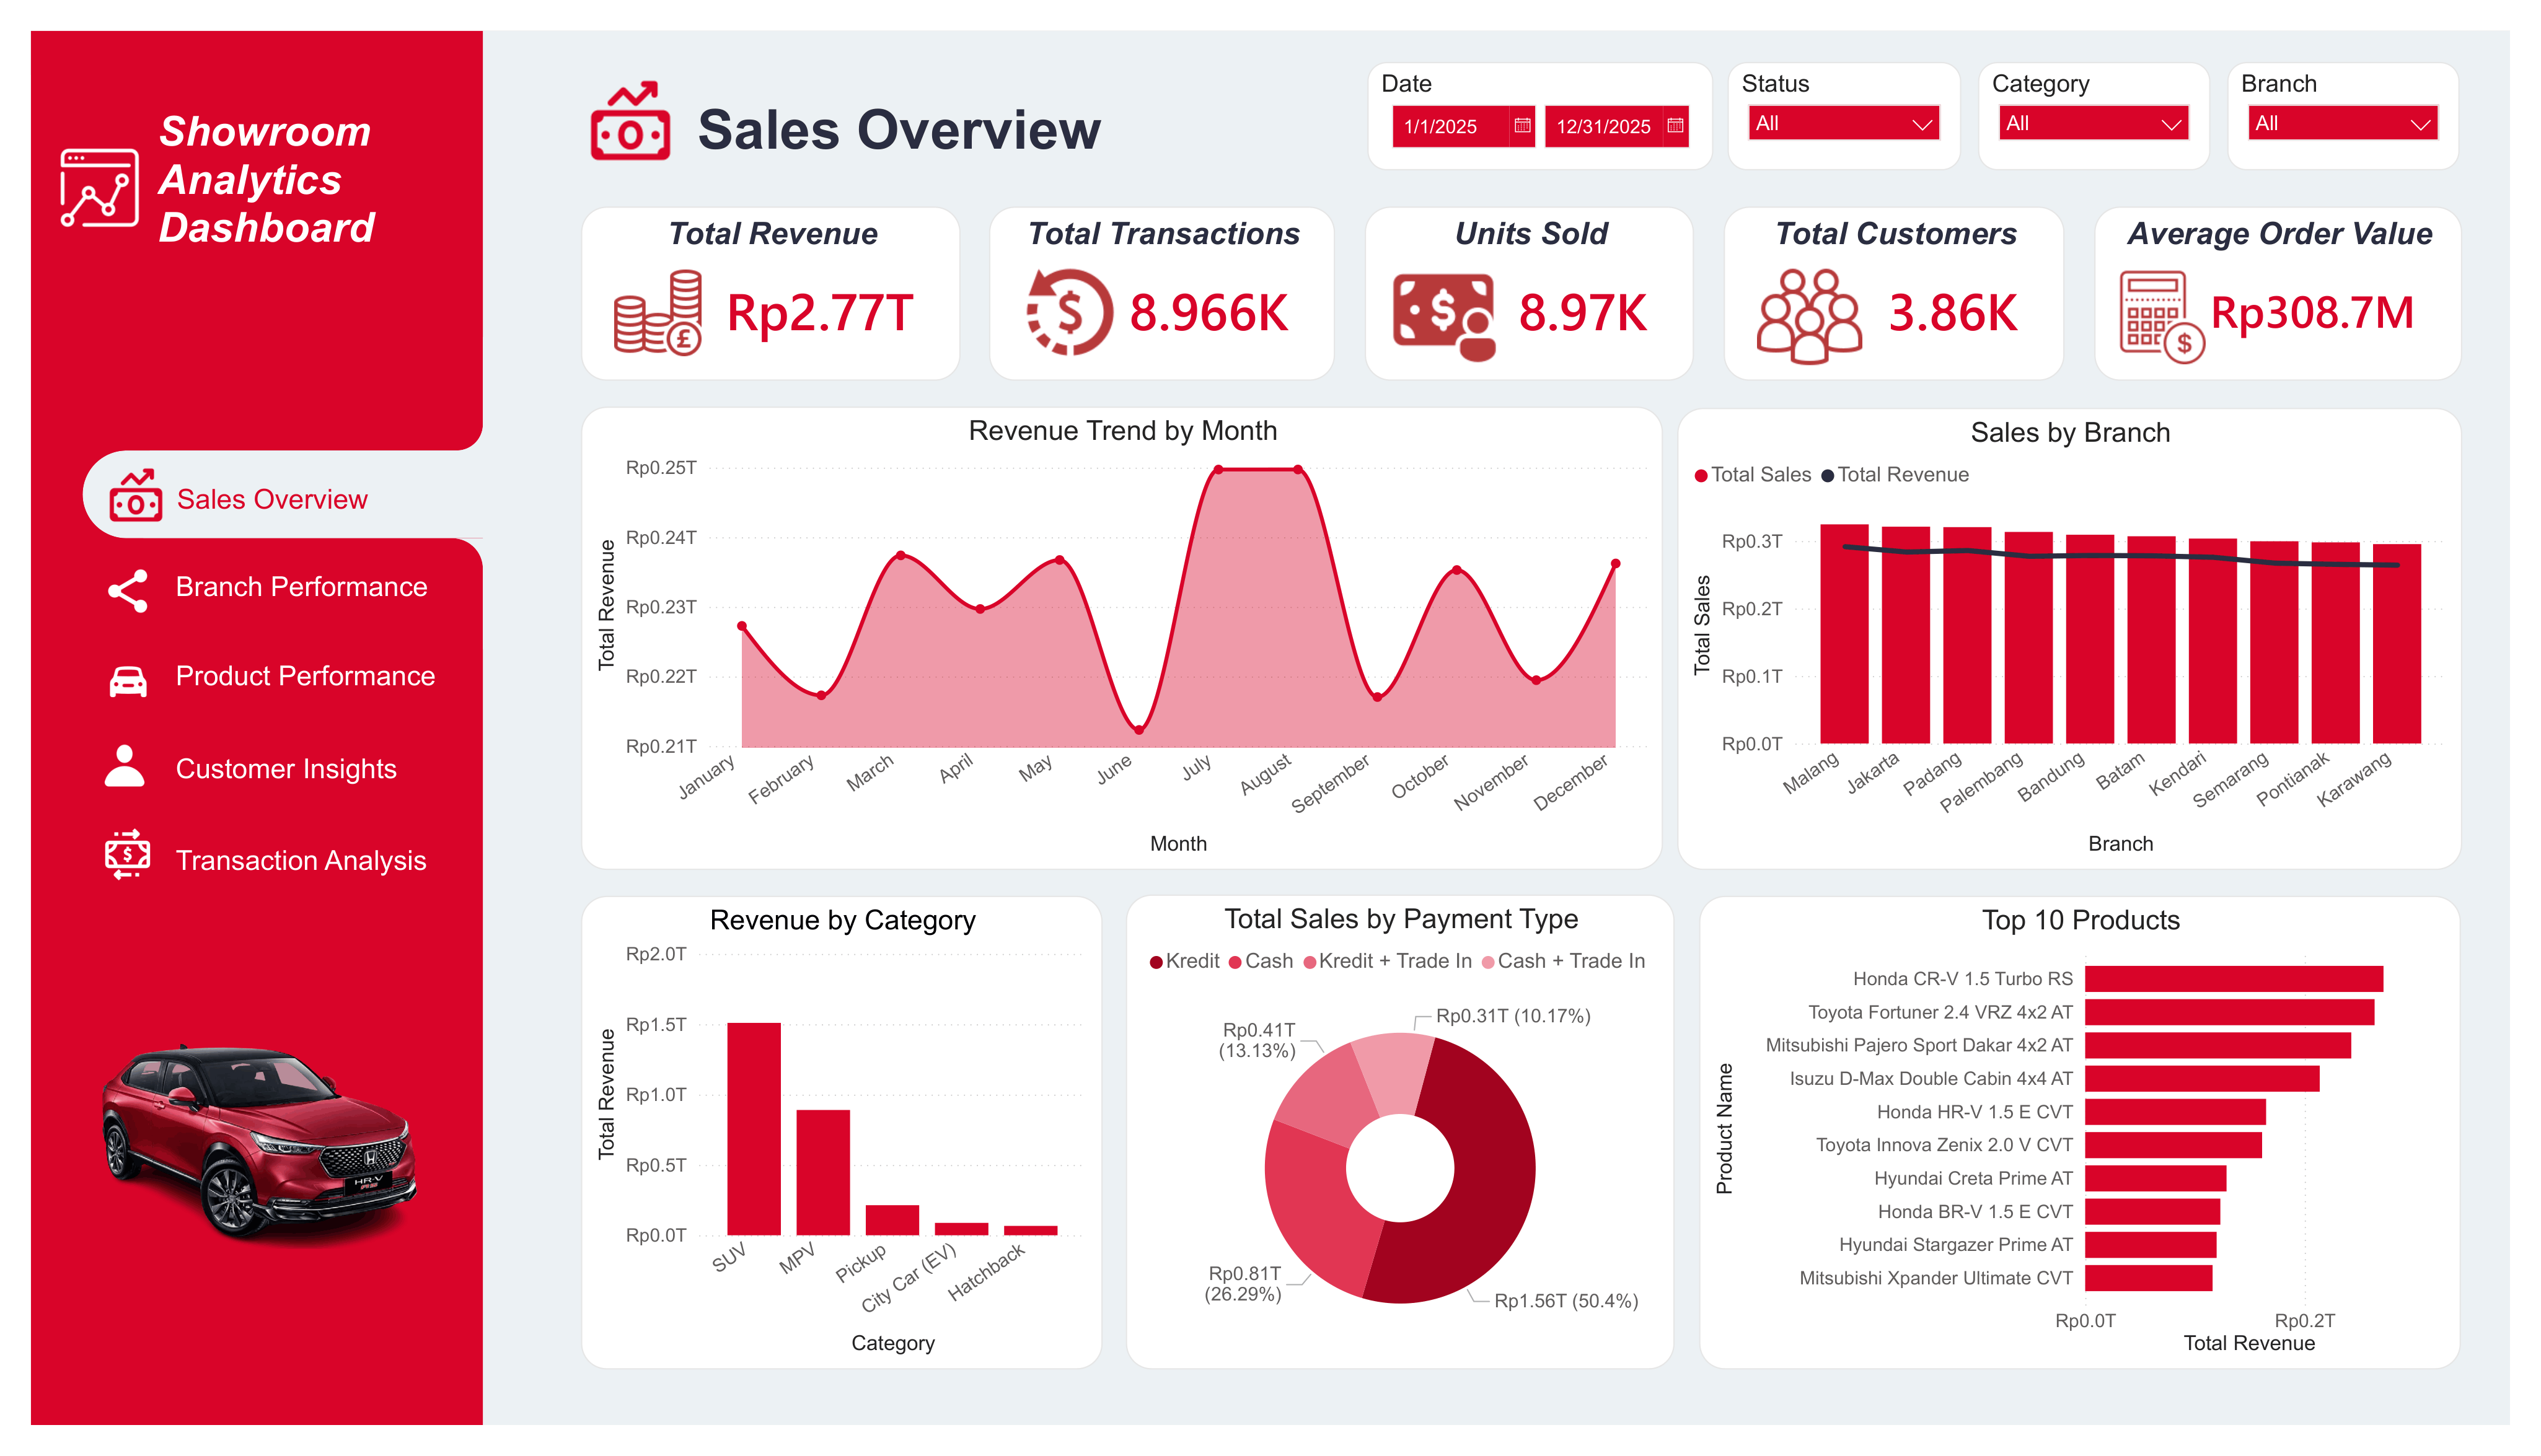

The page's visual inventory and layout, read from the dashboard file:
{"tool":"powerbi","page":{"name":"Sales Overview","canvas":[1920,1080],"ordinal":0},"visuals":[{"type":"shape","box":[0,0,350,1080],"z":0},{"type":"image","box":[0,621.5,352.3,458.5],"z":1000},{"type":"lineChart","title":"Revenue Trend by Month","fields":{"Category":["showroom_mobil_clean.sales_date.Variation.Date Hierarchy.Month"],"Y":["showroom_mobil_clean.total_revenue"]},"box":[425.7,291.4,838.6,358.6],"z":2000},{"type":"lineStackedColumnComboChart","title":"Sales by Branch","fields":{"Category":["showroom_mobil_clean.branch"],"Y":["Sum(showroom_mobil_clean.total_sales)"],"Y2":["showroom_mobil_clean.total_revenue"]},"box":[1274.7,292,608.4,357.8],"z":3000},{"type":"columnChart","title":"Revenue by Category","fields":{"Category":["showroom_mobil_clean.category"],"Y":["showroom_mobil_clean.total_revenue"]},"box":[425.7,670,404.3,367.1],"z":4000},{"type":"donutChart","title":"Total Sales by Payment Type","fields":{"Category":["showroom_mobil_clean.payment_type"],"Y":["Sum(showroom_mobil_clean.total_sales)"]},"box":[848,669.3,425.3,368],"z":5000},{"type":"clusteredBarChart","title":"Top 10 Products","fields":{"Category":["showroom_mobil_clean.product_name"],"Y":["showroom_mobil_clean.total_revenue"]},"box":[1292.2,669.5,589.7,367.8],"z":6000},{"type":"cardVisual","title":"Total Revenue","fields":{"Data":["showroom_mobil_clean.total_revenue"]},"box":[425.7,135.7,294.3,135.7],"z":7000},{"type":"image","box":[20,91.3,66.1,60.9],"z":8000},{"type":"image","box":[417.4,31.3,93.9,76.5],"z":9000},{"type":"textbox","box":[511,46.8,499.1,61.5],"z":10000},{"type":"cardVisual","title":"Total Transactions","fields":{"Data":["showroom_mobil_clean.Total Transactions"]},"box":[742.3,135.9,268.1,134.6],"z":11000},{"type":"cardVisual","title":"Units Sold","fields":{"Data":["showroom_mobil_clean.Units Sold"]},"box":[1032.8,135.9,255.6,134.6],"z":12000},{"type":"cardVisual","title":"Total Customers","fields":{"Data":["showroom_mobil_clean.Total Customers"]},"box":[1310.9,135.9,264.3,134.6],"z":13000},{"type":"cardVisual","title":"Average Order Value","fields":{"Data":["showroom_mobil_clean.AOV"]},"box":[1597.6,135.9,285.5,134.6],"z":14000},{"type":"slicer","title":"Date","fields":{"Values":["showroom_mobil_clean.sales_date"]},"box":[1034.7,24.5,268,83.8],"z":15000},{"type":"slicer","title":"Status","fields":{"Values":["showroom_mobil_clean.status"]},"box":[1314.4,24.5,180.4,83.8],"z":16000},{"type":"slicer","title":"Category","fields":{"Values":["showroom_mobil_clean.category"]},"box":[1507.7,24.5,180.4,83.8],"z":17000},{"type":"slicer","title":"Branch","fields":{"Values":["showroom_mobil_clean.branch"]},"box":[1700.9,24.5,180.4,83.8],"z":18000},{"type":"image","box":[438.5,184.6,93.8,67.7],"z":19000},{"type":"image","box":[749.3,177.3,112,81.3],"z":20000},{"type":"image","box":[1030.8,172.3,126.2,87.7],"z":21000},{"type":"image","box":[1314.6,180.8,124.7,81],"z":22000},{"type":"image","box":[1580,176.9,126.2,81.5],"z":23000},{"type":"shape","box":[39.7,324.8,350.4,68.6],"z":24000},{"type":"textbox","box":[108.3,346.3,196.7,42.1],"z":25000},{"type":"shape","box":[86.8,392.6,264.5,86],"z":26000},{"type":"image","box":[56.2,330.6,51.2,57.9],"z":27000},{"type":"shape","box":[92.2,237.1,260.8,89.6],"z":28000},{"type":"shape","box":[10.7,393.4,339.7,156.2],"z":29000},{"type":"shape","box":[0,189.7,350.3,135.7],"z":30000},{"type":"textbox","box":[93,54.8,244.3,133.9],"z":31000},{"type":"textbox","box":[107.3,413.8,216.5,43.1],"z":32000},{"type":"textbox","box":[107.3,555,197.2,35.8],"z":33000},{"type":"textbox","box":[107.3,483.5,216.5,42.2],"z":34000},{"type":"textbox","box":[107.3,625.7,216.5,35.8],"z":35000},{"type":"image","box":[55.3,410.9,39.5,46.1],"z":36000},{"type":"image","box":[55.3,480.7,40.8,46.1],"z":37000},{"type":"image","box":[52.7,547.9,39.5,42.1],"z":38000},{"type":"image","box":[55.3,615.1,39.5,46.1],"z":39000}]}

Visuals, with their boxes on the page's 1920x1080 design canvas (x1, y1, x2, y2). These are canvas units, not pixel positions in the 2541x1456 screenshot, which may show the page scaled, cropped or inside an application window:
shape: region(0, 0, 350, 1080)
image: region(0, 622, 352, 1080)
"Revenue Trend by Month" lineChart: region(426, 291, 1264, 650)
"Sales by Branch" lineStackedColumnComboChart: region(1275, 292, 1883, 650)
"Revenue by Category" columnChart: region(426, 670, 830, 1037)
"Total Sales by Payment Type" donutChart: region(848, 669, 1273, 1037)
"Top 10 Products" clusteredBarChart: region(1292, 670, 1882, 1037)
"Total Revenue" cardVisual: region(426, 136, 720, 271)
image: region(20, 91, 86, 152)
image: region(417, 31, 511, 108)
textbox: region(511, 47, 1010, 108)
"Total Transactions" cardVisual: region(742, 136, 1010, 270)
"Units Sold" cardVisual: region(1033, 136, 1288, 270)
"Total Customers" cardVisual: region(1311, 136, 1575, 270)
"Average Order Value" cardVisual: region(1598, 136, 1883, 270)
"Date" slicer: region(1035, 24, 1303, 108)
"Status" slicer: region(1314, 24, 1495, 108)
"Category" slicer: region(1508, 24, 1688, 108)
"Branch" slicer: region(1701, 24, 1881, 108)
image: region(438, 185, 532, 252)
image: region(749, 177, 861, 259)
image: region(1031, 172, 1157, 260)
image: region(1315, 181, 1439, 262)
image: region(1580, 177, 1706, 258)
shape: region(40, 325, 390, 393)
textbox: region(108, 346, 305, 388)
shape: region(87, 393, 351, 479)
image: region(56, 331, 107, 388)
shape: region(92, 237, 353, 327)
shape: region(11, 393, 350, 550)
shape: region(0, 190, 350, 325)
textbox: region(93, 55, 337, 189)
textbox: region(107, 414, 324, 457)
textbox: region(107, 555, 304, 591)
textbox: region(107, 484, 324, 526)
textbox: region(107, 626, 324, 662)
image: region(55, 411, 95, 457)
image: region(55, 481, 96, 527)
image: region(53, 548, 92, 590)
image: region(55, 615, 95, 661)
